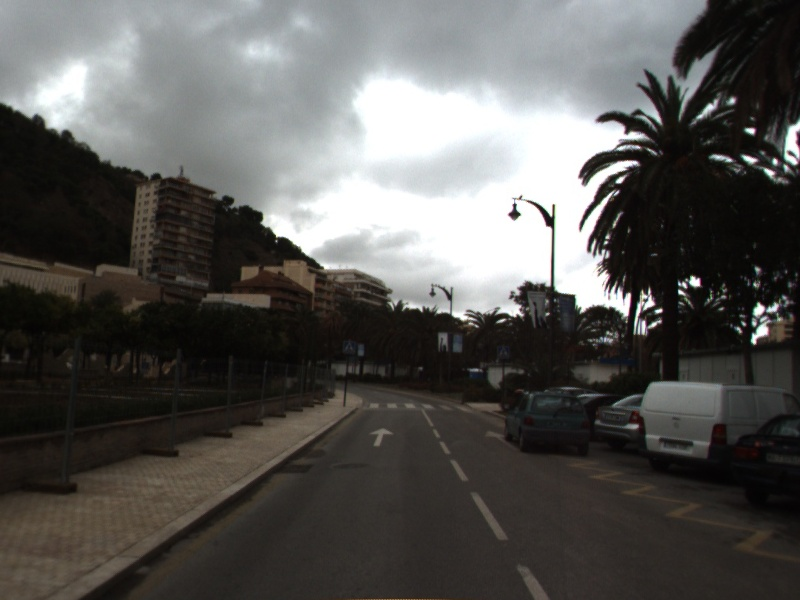STRAIGHT: (483, 428, 524, 453), (367, 426, 396, 448)
